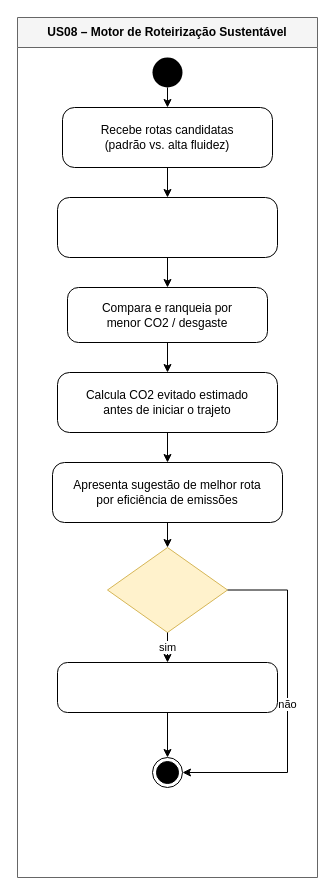
Some shapes in this 335 by 895 pixel diagram are drawn without their labels. The shapes that lost their labels are listed below. From the top down, each one's centre as x and y in pixels, then its label:
At point (167, 227): "Estima tempo parado, consumo e emissões por alternativa".
At point (167, 589): "Usuário confirma e inicia?".
At point (167, 687): "Inicia navegação com a rota escolhida".
